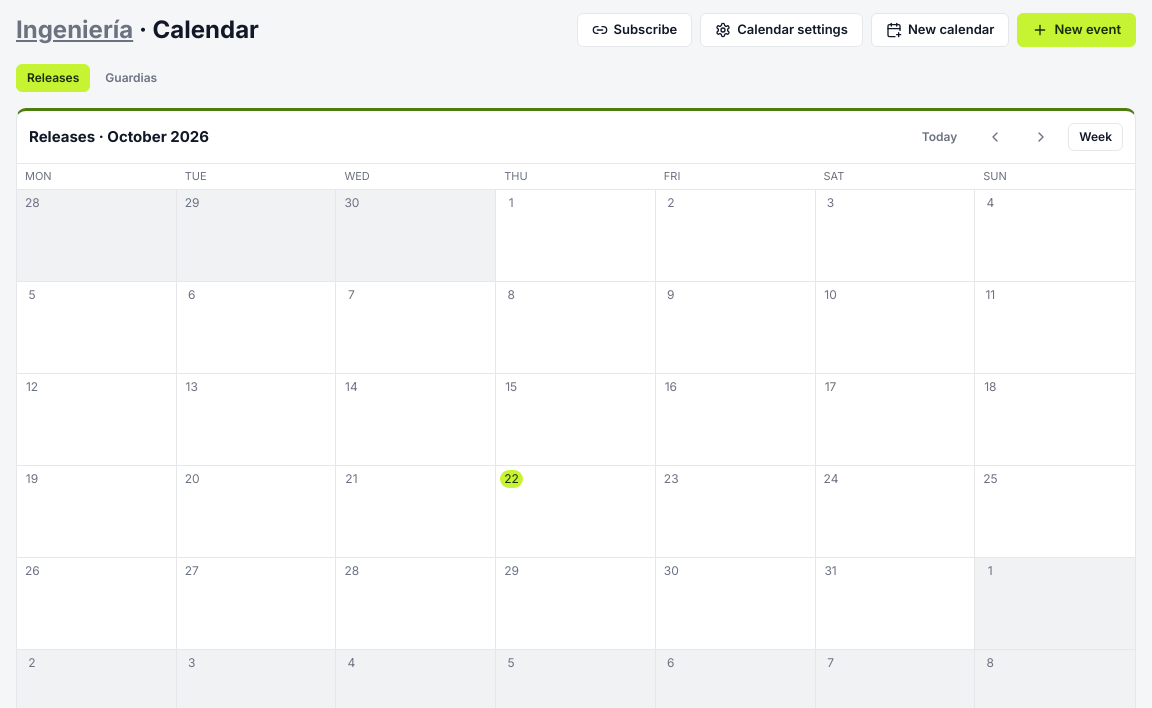
Test: CalendarsPage › shows the first calendar and switches between them
This screenshot has width=1152, height=708.
Expected: the button "Calendar settings" is shown, [700, 13, 863, 47]
Click the tab "Guardias": point(131, 78) [94, 64, 168, 92]
(page scrolled)
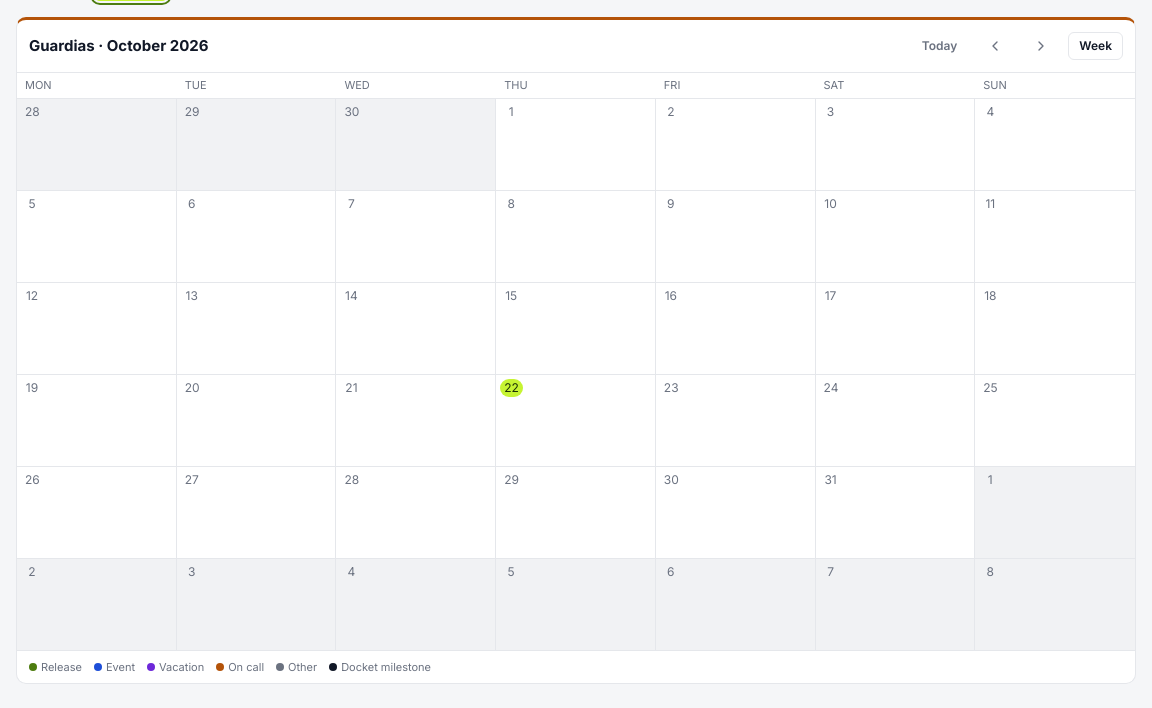
Result: the element "Guardias" is shown
Result: the button "Calendar settings" is gone
